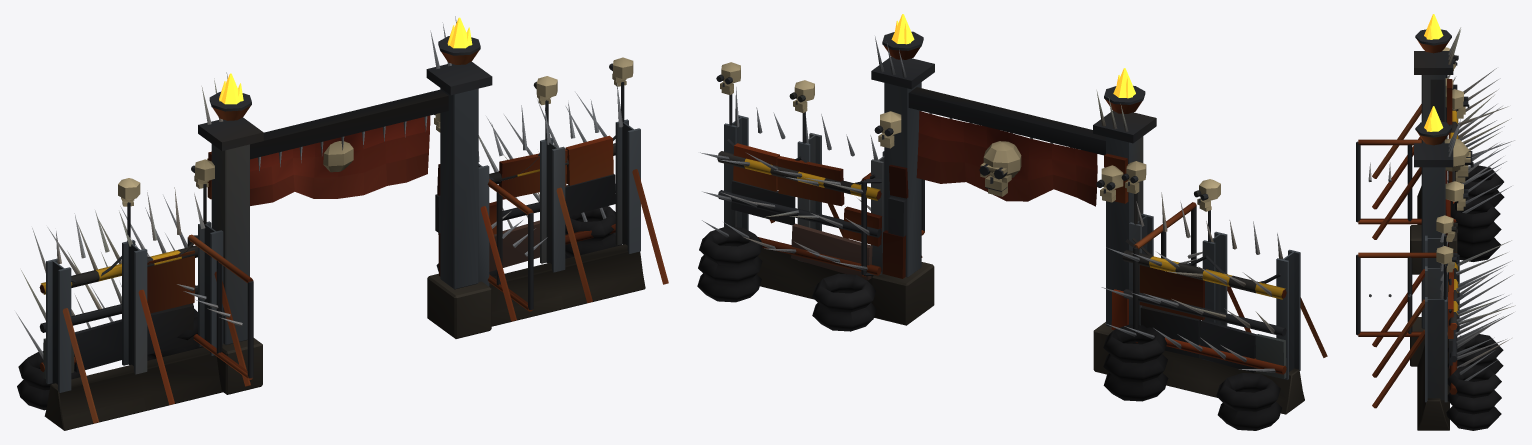
Rendered from spike_gate.glb.
3 renders of one model, left to right at view 1: azimuth 30°, elevation 25°; view 2: azimuth 150°, elevation 25°; view 3: azimuth 270°, elevation 25°, orthographic. The views are drawn at different scales.
Visible parts, largest first — view 1: steel_beam, concrete_dark, metal_dark, rust, canvas, spike, rubber, bone, metal_bare, hazard, light_amber; view 2: metal_dark, steel_beam, rubber, rust, canvas, concrete_dark, spike, bone, metal_bare, hazard, light_amber; view 3: rubber, rust, steel_beam, metal_dark, spike, concrete_dark, bone, light_amber, hazard.
Boxes of the visible parts, x1,y1,x2,y2 form: steel_beam: (46,88,640,392); concrete_dark: (44,244,645,430); metal_dark: (39,36,624,378); rust: (39,50,668,423); canvas: (250,115,430,205); spike: (16,16,623,359); rubber: (17,206,622,410); bone: (118,57,633,206); metal_bare: (43,220,539,378); hazard: (41,143,615,294); light_amber: (219,17,472,104); metal_dark: (716,31,1286,372); steel_beam: (724,82,1300,379); rubber: (697,226,1281,430); rust: (733,45,1327,374); canvas: (916,111,1097,206); concrete_dark: (757,247,1304,414); spike: (700,36,1282,372); bone: (720,62,1220,211); metal_bare: (791,223,1286,378); hazard: (717,151,1285,299); light_amber: (891,14,1135,98); rubber: (1446,165,1504,430); rust: (1358,39,1457,408); steel_beam: (1421,75,1447,402); metal_dark: (1356,29,1473,365); spike: (1368,27,1515,380); concrete_dark: (1410,186,1457,430); bone: (1436,47,1470,272); light_amber: (1424,14,1443,131); hazard: (1448,109,1458,326).
Size of what is drawn, in the model's own units: 14.39 by 7.06 by 4.09.
